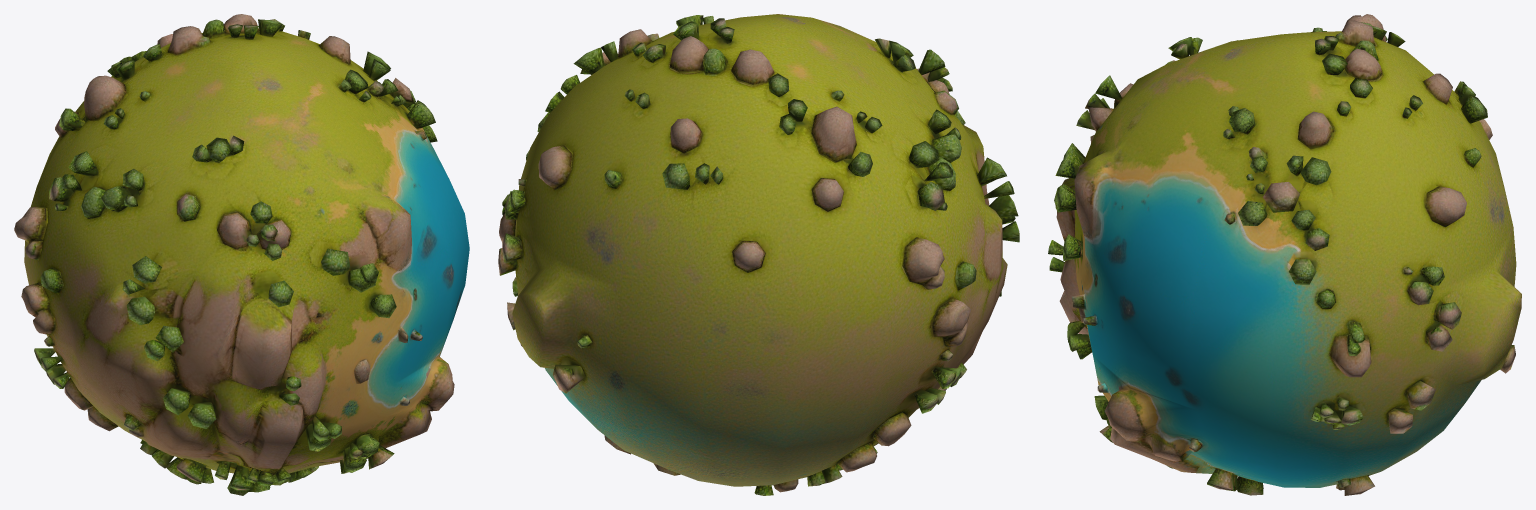
Rendered from tropical_island_planet.glb.
3 views of the same model, side by side, from view 1: azimuth 30°, elevation 25°; view 2: azimuth 150°, elevation 25°; view 3: azimuth 270°, elevation 25° (orthographic). The views are drawn at different scales.
Parts seen in each view (by area): view 1: tripo_node_ab226d22-c8d6-4dd4-81a6-30a5108178c6; view 2: tripo_node_ab226d22-c8d6-4dd4-81a6-30a5108178c6; view 3: tripo_node_ab226d22-c8d6-4dd4-81a6-30a5108178c6.
Boxes of the visible parts, box(x1,y1,x2,y2) form: tripo_node_ab226d22-c8d6-4dd4-81a6-30a5108178c6: box(14, 14, 469, 495); tripo_node_ab226d22-c8d6-4dd4-81a6-30a5108178c6: box(498, 14, 1019, 495); tripo_node_ab226d22-c8d6-4dd4-81a6-30a5108178c6: box(1048, 14, 1521, 495).
Size of the model in its own units: 0.9995 by 0.9907 by 0.9546.
1 material, 1 textured.
